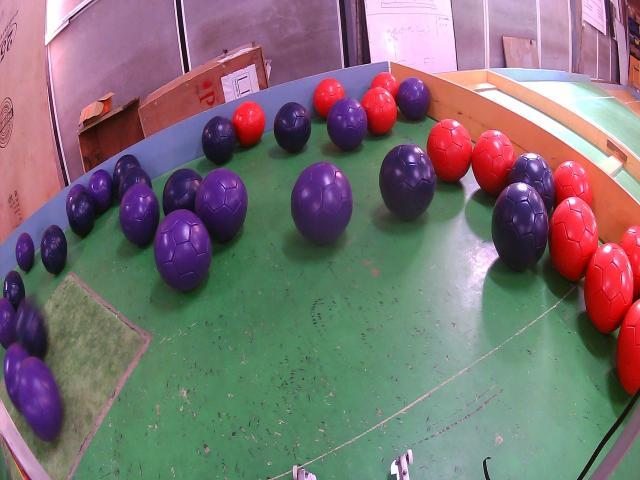jambhalya: (4, 342, 62, 442), (291, 162, 352, 245), (154, 210, 211, 292), (195, 168, 248, 242), (16, 357, 62, 442), (119, 183, 160, 245), (328, 98, 368, 151), (396, 77, 430, 120), (88, 170, 114, 212), (15, 232, 35, 272), (0, 298, 15, 348), (66, 183, 86, 212)
kaalyya: (491, 183, 549, 270), (379, 143, 436, 220), (509, 152, 555, 213), (15, 298, 48, 358), (162, 168, 202, 215), (274, 102, 311, 152), (201, 117, 236, 164), (40, 225, 68, 273), (68, 190, 95, 237), (112, 155, 140, 197), (119, 167, 152, 202), (4, 270, 25, 311)
